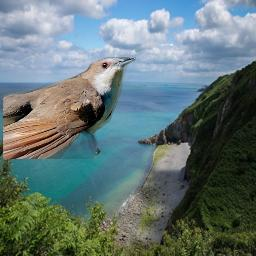Cuckoo: (3, 57, 136, 159)
